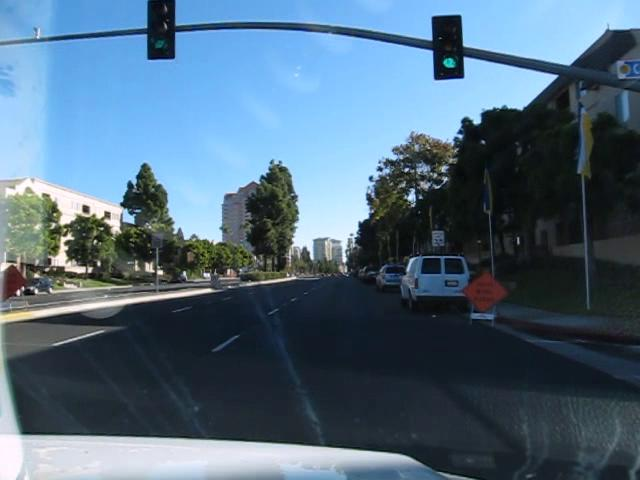speedLimit35: (430, 229, 445, 247)
